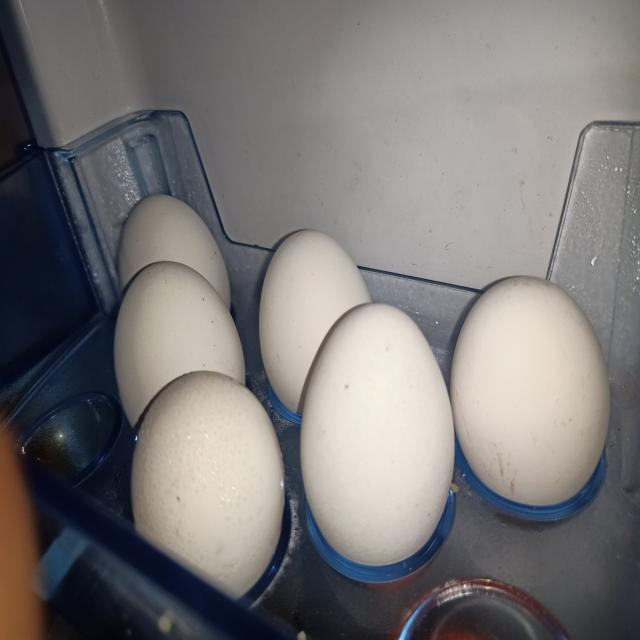Egg: (301, 303, 455, 566), (451, 276, 611, 506), (131, 371, 284, 598), (113, 194, 245, 425), (259, 229, 371, 424), (113, 261, 245, 426), (117, 194, 230, 308)
